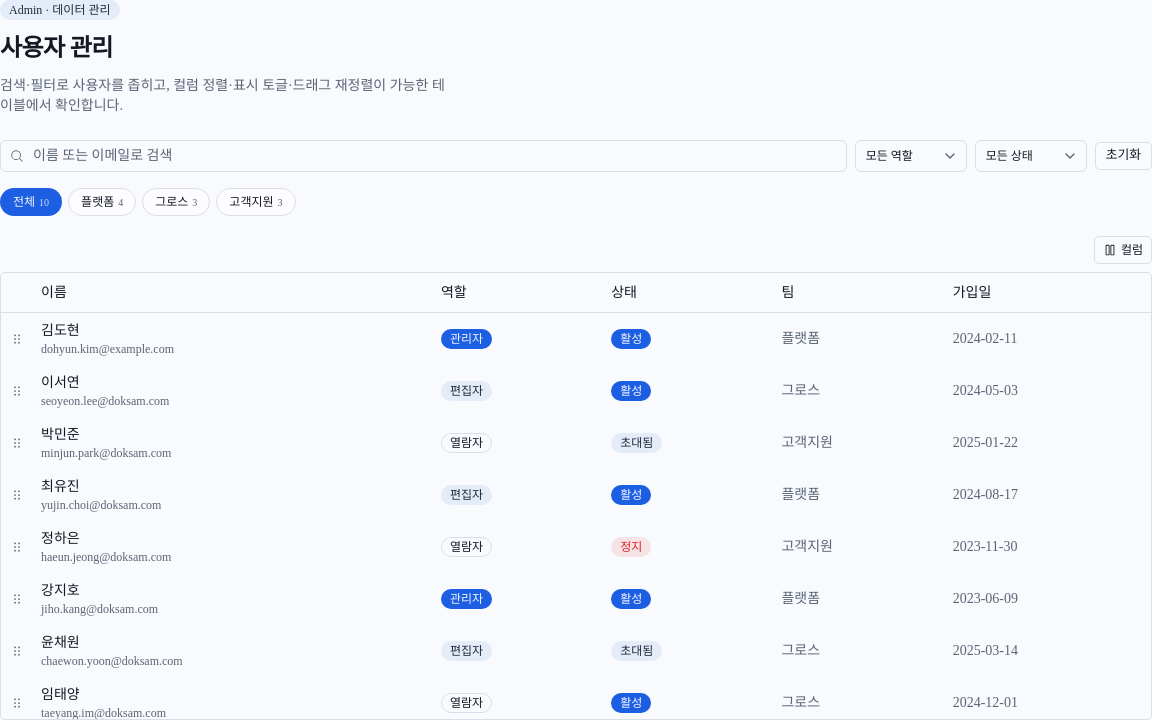
Test: AdminDataPage › filters rows by search text
The width and height of the screenshot is (1152, 720).
Type "도현" into the field with placeholder "이름 또는 이메일로 검색". click: (423, 156)
box: [0,140,847,172]
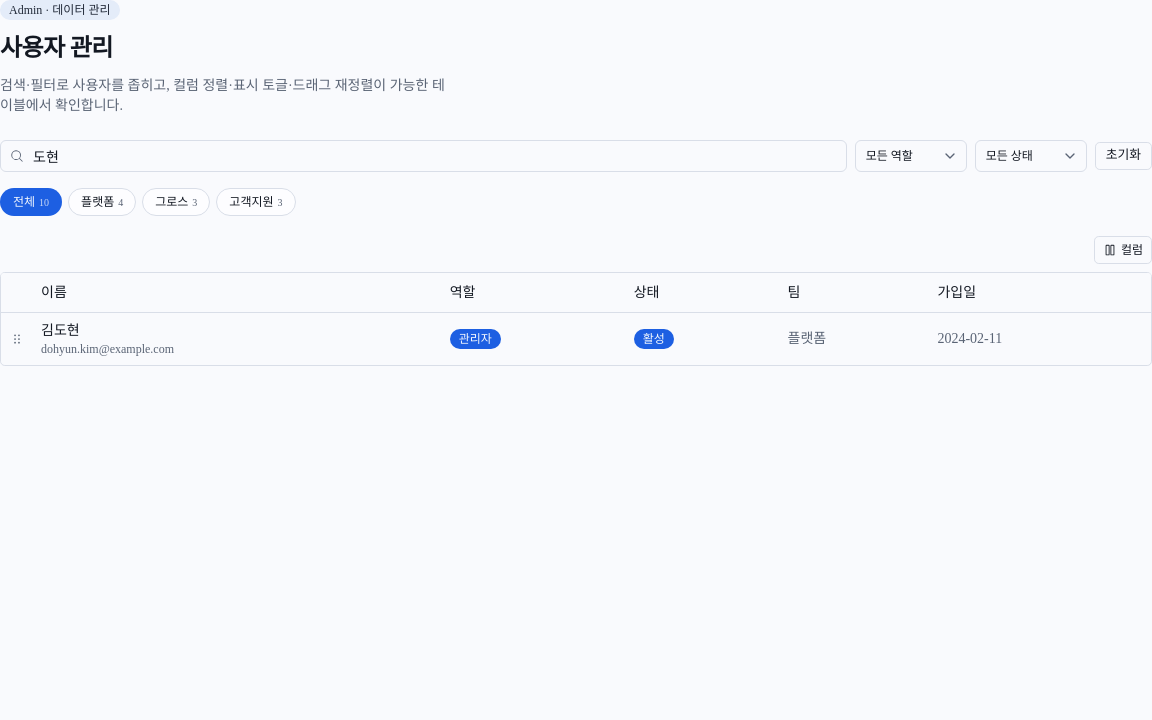
Check: the text "김도현" is shown, box [41,323,80,338]
Check: the text "이서연" is gone
